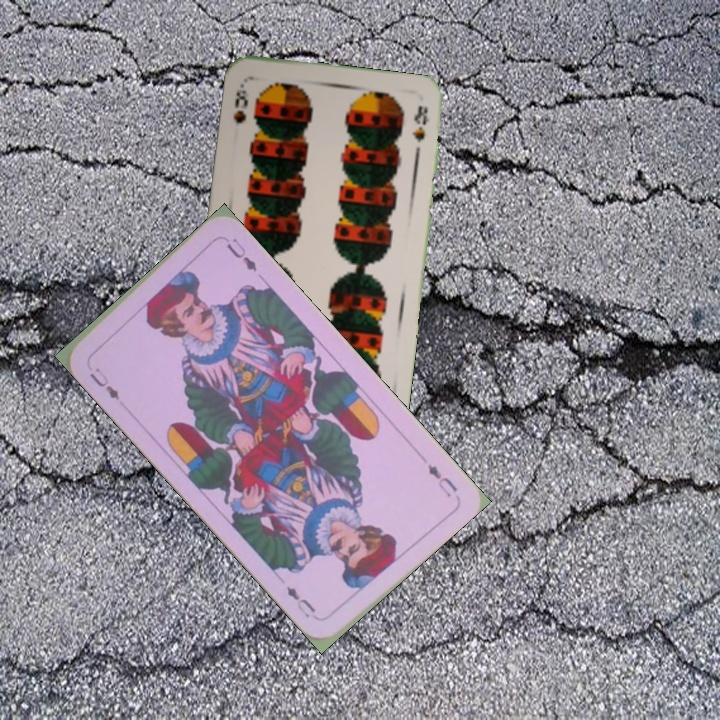EU: (423, 459, 461, 499), (85, 364, 122, 403)
S8: (229, 79, 252, 126)
